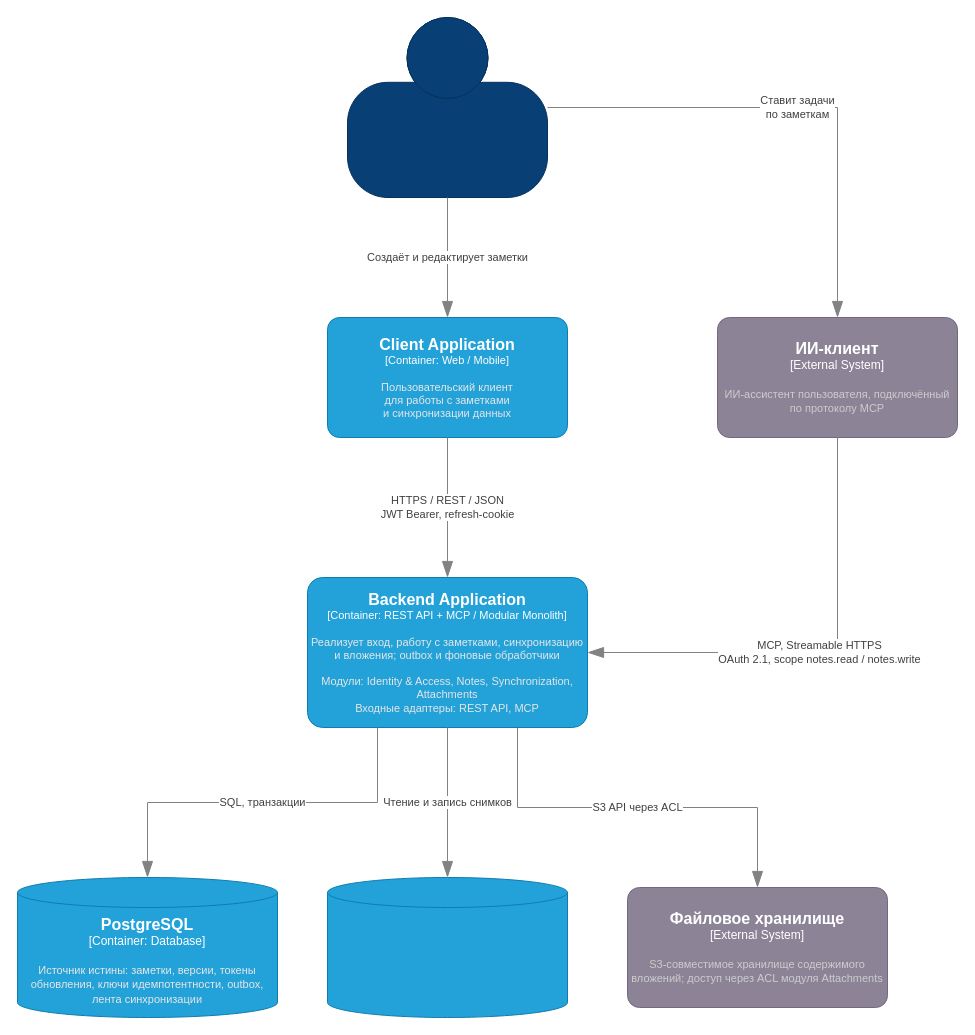
The diagram is 975 pixels wide and 1035 high, and some of its shapes have lost their labels. Here are the shapes that lost their labels. From the top down, the centre of each, then its label:
At (447,107): "Пользователь [Person] Работает с заметками на нескольких устройствах".
At (447,947): "Redis [Container: Cache] Необязательный кэш неизменяемых снимков версий заметок".
